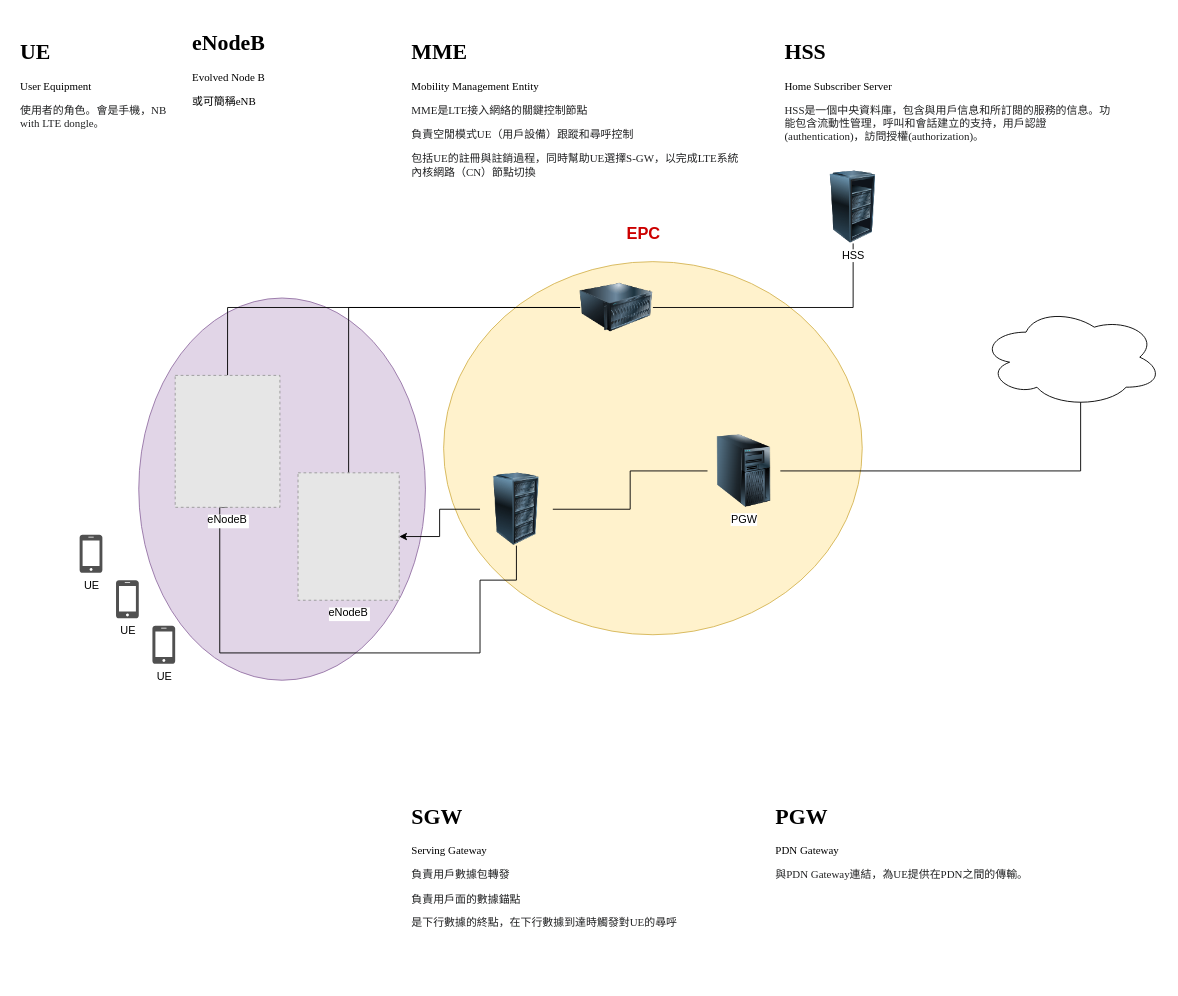
This 1178x996 diagram has some shape labels left out. Grey dashed boxes stand in for pictures. The shapes that lost their labels are listed below. From the top down, each one's centre as x and y in pixels, then its label:
(616,307): MME
(1071,356): Internet
(516,508): SGW
